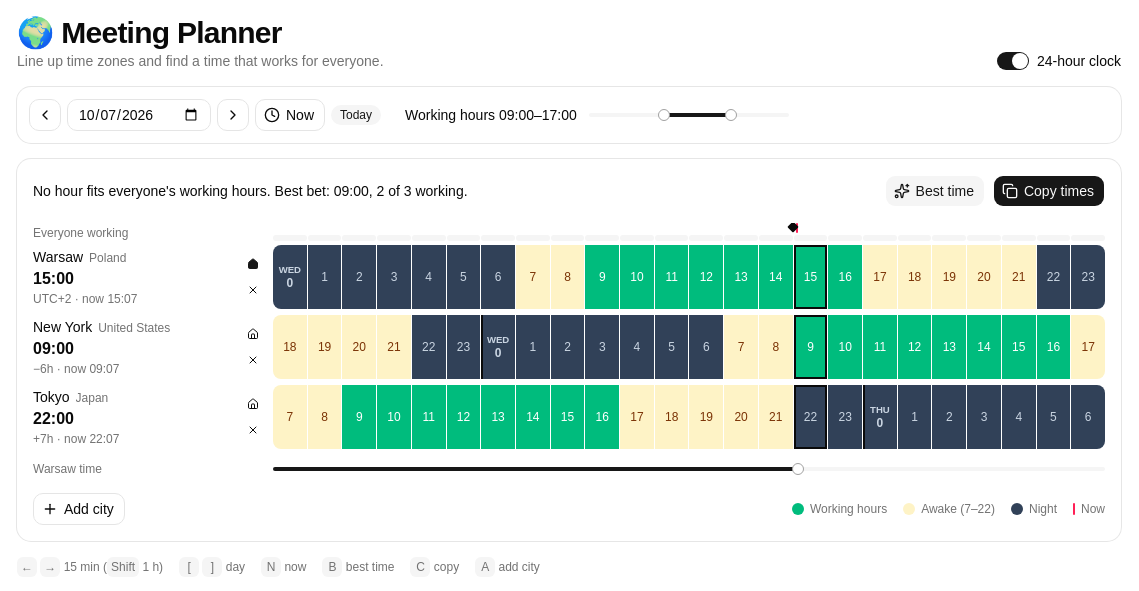
Test: copy › copies the selected time in every city
Step 1. Click the button "Copy times" → [1049, 191], box [993, 175, 1105, 207]
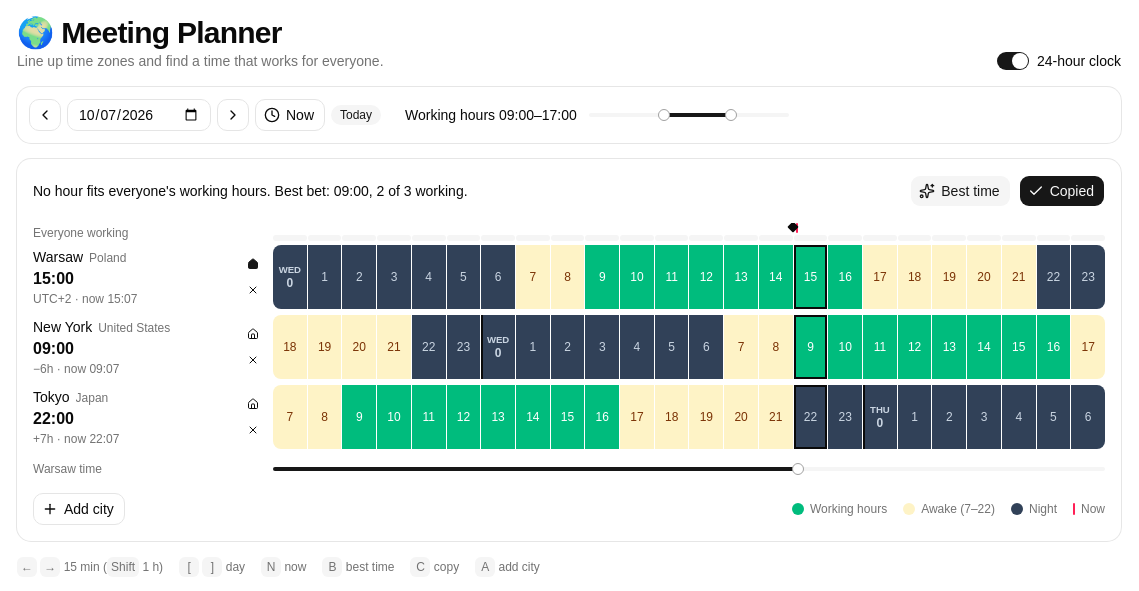
Expected: the button "Copied" is shown, [1019, 175, 1105, 207]
